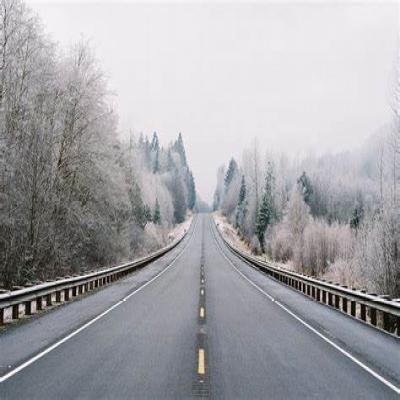clear-road: (0, 214, 400, 400)
